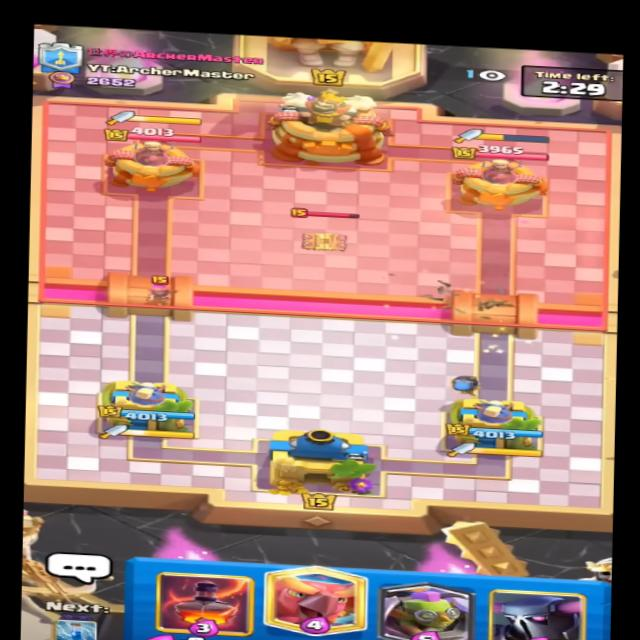archer: (133, 276, 182, 305)
tesla-closed: (281, 200, 370, 255)
